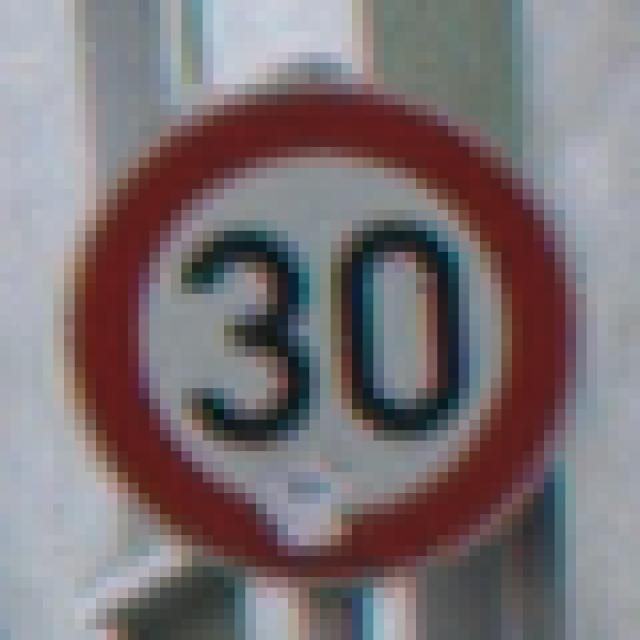Speed Limit -30-: (48, 63, 582, 577)
